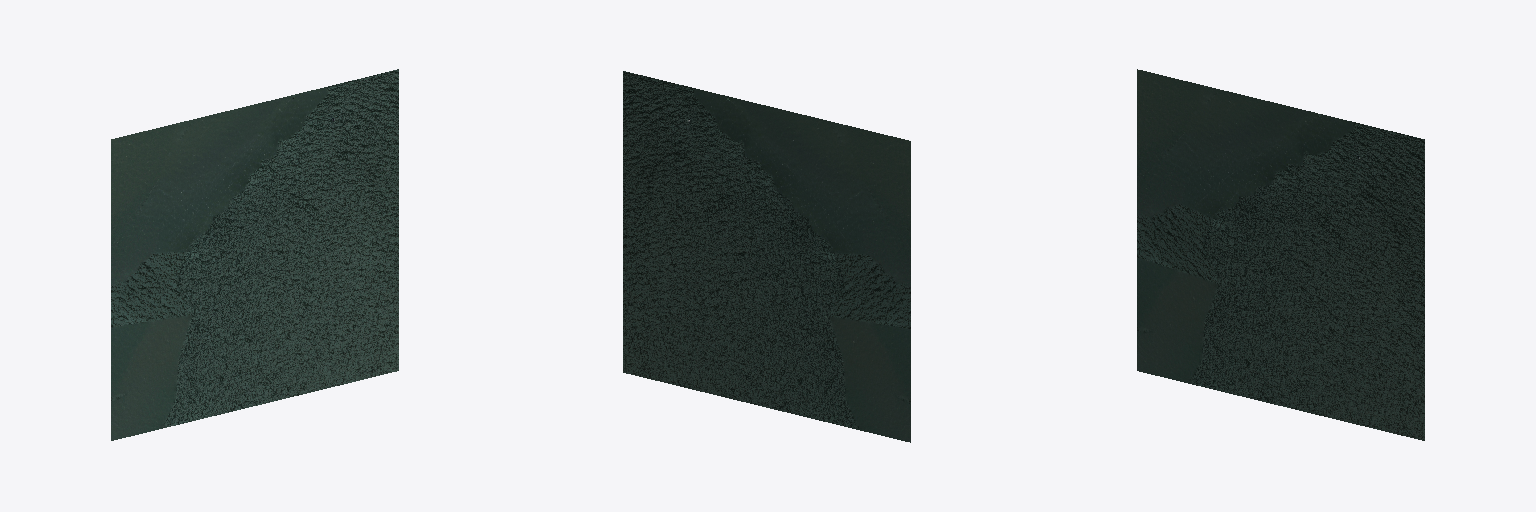
3 views of the same model, side by side, from view 1: azimuth 30°, elevation 25°; view 2: azimuth 150°, elevation 25°; view 3: azimuth 330°, elevation 25° (orthographic).
Bounding box in the file's own units: 252 × 252 × 3.78.
2 materials, 1 textured.